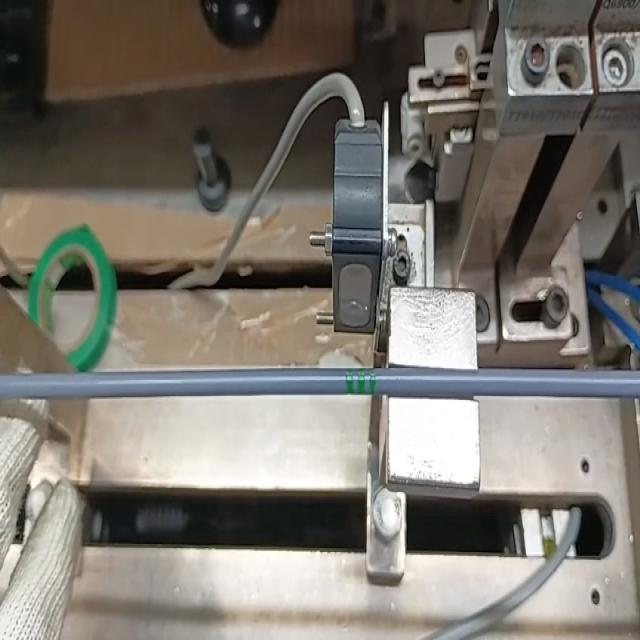green: (347, 367, 377, 395)
